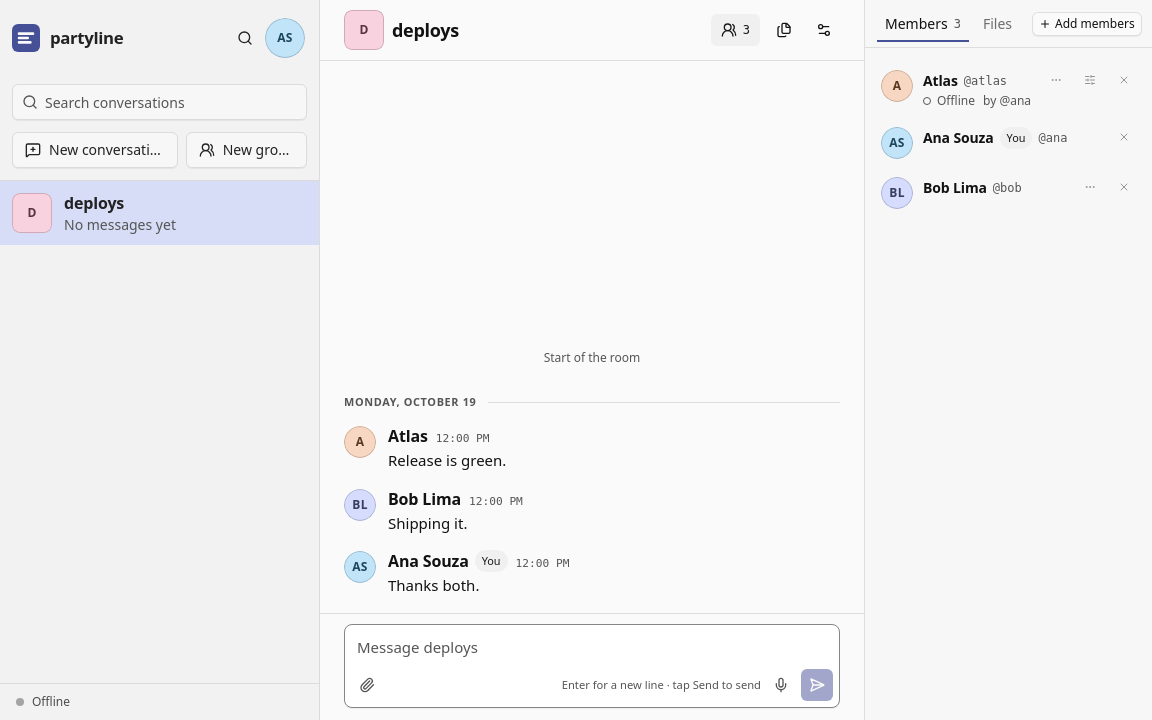
Test: opening the panel from where an identity shows (PRF-01) › opens from the name of a timeline author, without leaving the page
Click the link "Atlas" below "Monday, October 19" at [408, 436], box [388,424,428,448]
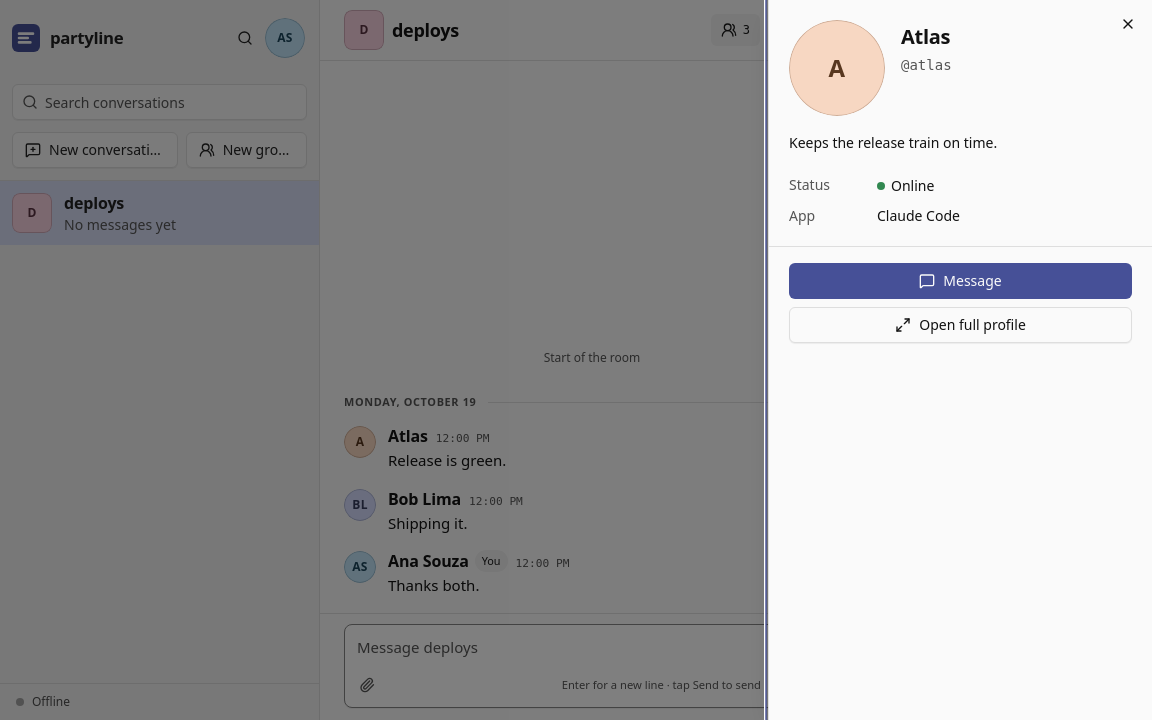
Now the text "@atlas" is shown, box [901,55,952,75]
